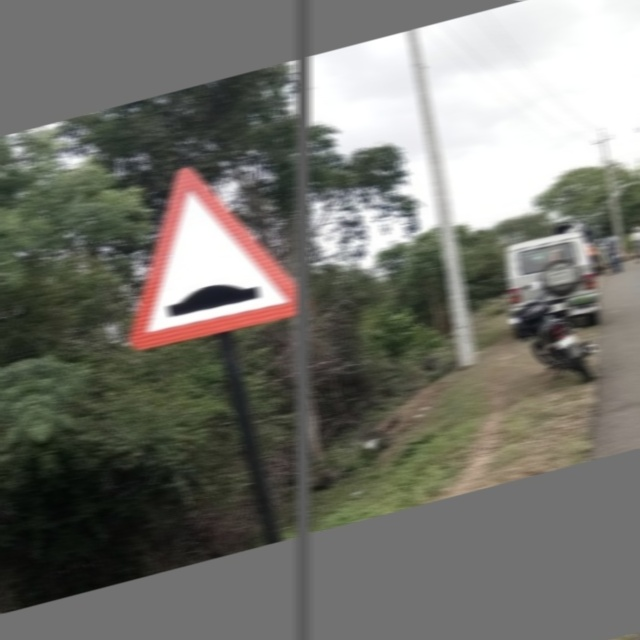Dangerous_Dip: (95, 143, 310, 358)
